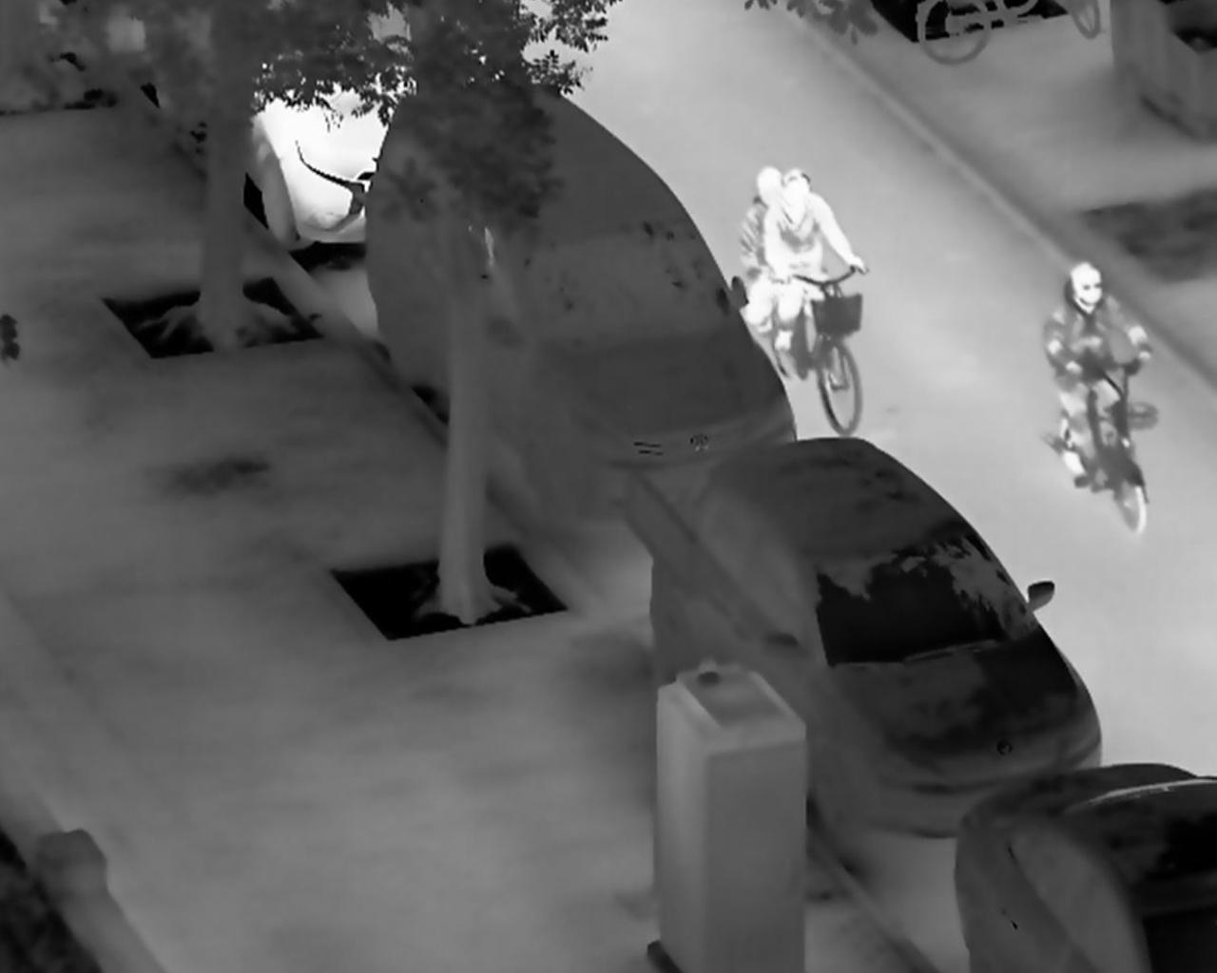person: (1044, 260, 1164, 493), (759, 165, 871, 387)
